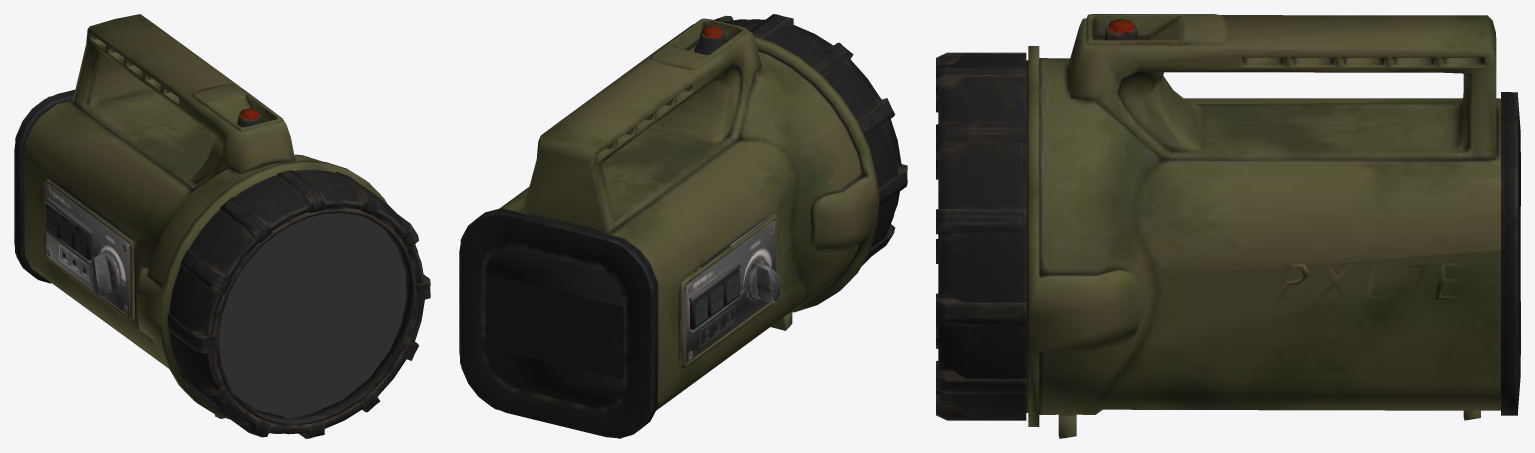
Rendered from isl_searchlight.glb.
3 views of the same model, side by side, from view 1: azimuth 30°, elevation 25°; view 2: azimuth 150°, elevation 25°; view 3: azimuth 270°, elevation 25° (orthographic). The views are drawn at different scales.
Visible parts, largest first — view 1: portable_searchlight; view 2: portable_searchlight; view 3: portable_searchlight.
Part boxes in pixels (x1,y1,x2,y2): portable_searchlight: (14,14,430,438); portable_searchlight: (459,14,907,438); portable_searchlight: (936,14,1520,438).
Bounding box in the file's own units: 0.165 × 0.1854 × 0.2535.
Materials: 2 (2 with a texture image).
